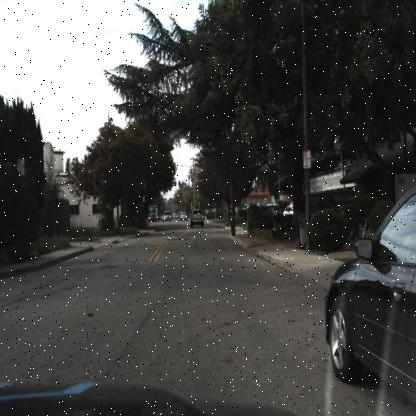car: (324, 180, 416, 412), (188, 206, 205, 232)
